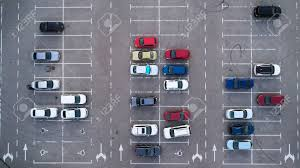car: (163, 125, 190, 138), (253, 64, 280, 75), (253, 6, 280, 17), (257, 94, 284, 105), (130, 64, 157, 75), (31, 80, 60, 90), (135, 144, 159, 156), (61, 108, 87, 119), (163, 110, 189, 121), (131, 124, 157, 135), (225, 78, 253, 88), (130, 96, 157, 106), (30, 108, 57, 118), (32, 51, 59, 61), (163, 79, 187, 90), (230, 123, 254, 134), (134, 37, 157, 48), (162, 64, 187, 74), (132, 50, 157, 60), (225, 109, 252, 118), (226, 140, 251, 149), (61, 94, 86, 103), (39, 22, 63, 31), (165, 49, 189, 58)
